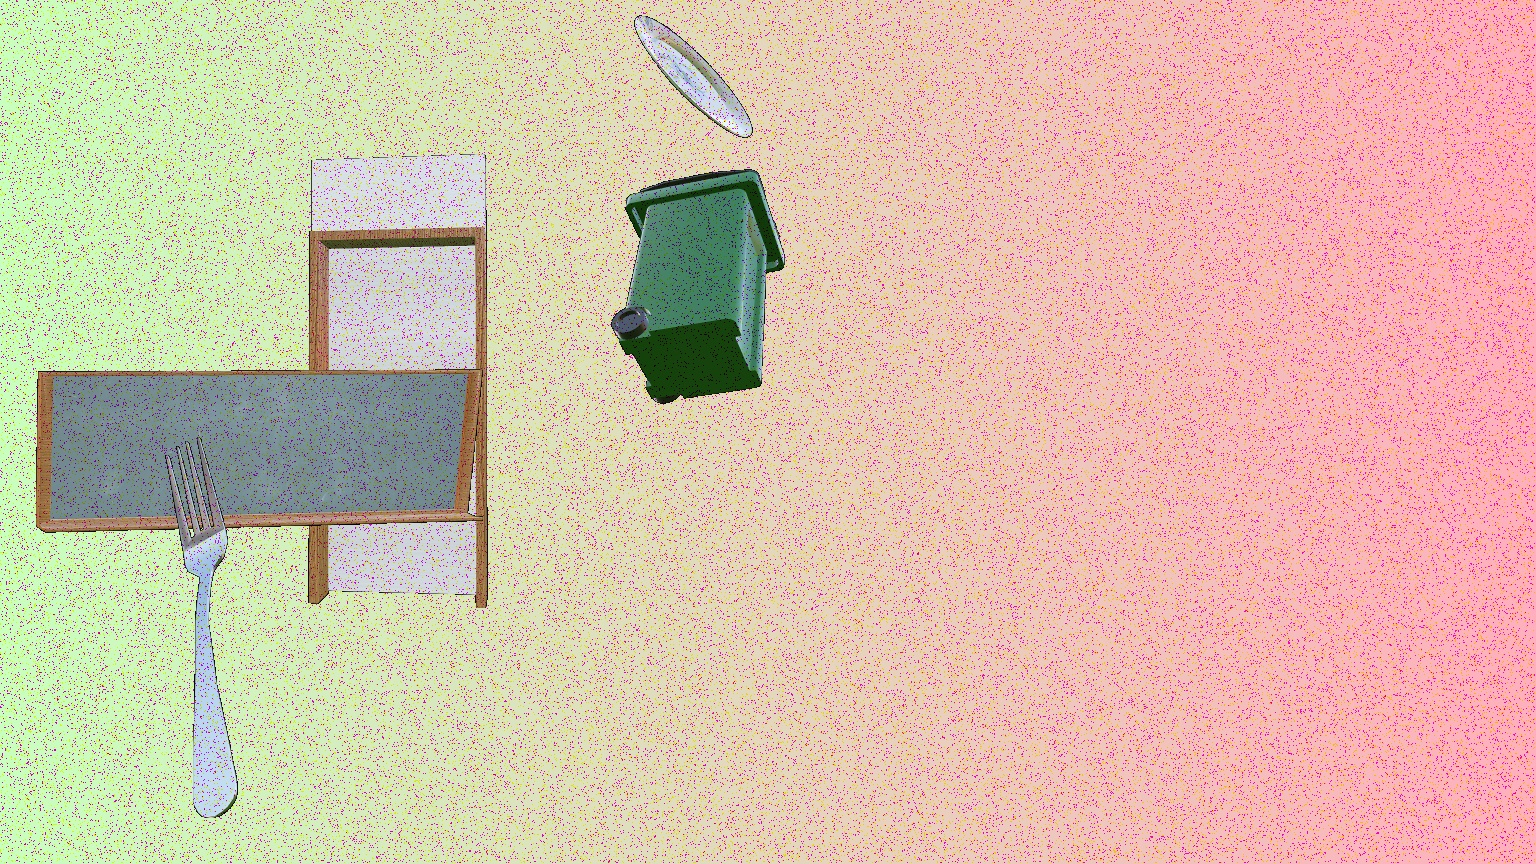contenedor: (611, 169, 785, 404)
pisarra: (35, 369, 484, 533)
plato: (634, 15, 753, 138)
puerta: (308, 153, 488, 609)
tenedor: (165, 436, 238, 819)
